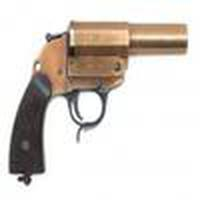gun: (7, 20, 192, 188)
